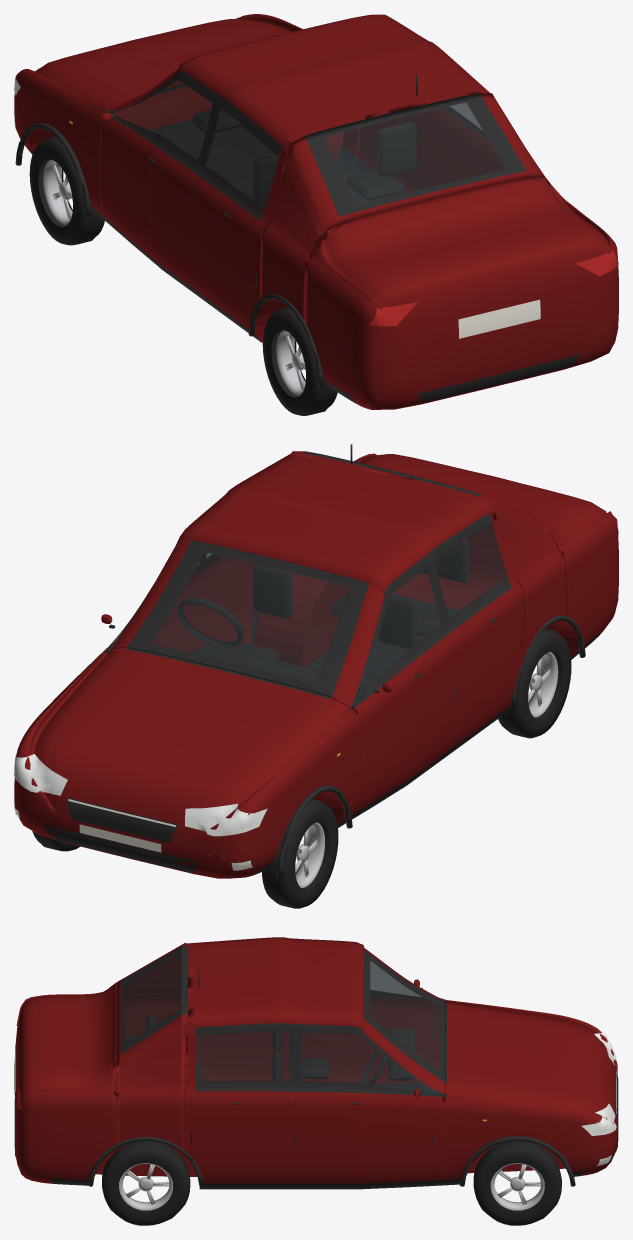
File: hatch_3.glb
The picture shows the model from 3 angles, top to bottom: view 1: azimuth 30°, elevation 25°; view 2: azimuth 150°, elevation 25°; view 3: azimuth 270°, elevation 25°; orthographic projection. The views are drawn at different scales.
Parts seen in each view (by area): view 1: body, wheel_0, wheel_2; view 2: body, wheel_0, wheel_2; view 3: body, wheel_1, wheel_3.
Boxes of the visible parts, bbox=[...] form: body: bbox=[14, 14, 618, 409]; wheel_0: bbox=[29, 136, 104, 245]; wheel_2: bbox=[262, 307, 337, 415]; body: bbox=[14, 444, 618, 878]; wheel_0: bbox=[262, 799, 338, 908]; wheel_2: bbox=[498, 628, 571, 738]; body: bbox=[14, 937, 618, 1189]; wheel_1: bbox=[473, 1140, 561, 1225]; wheel_3: bbox=[102, 1140, 190, 1225].
Size of the model in its own units: 1.78 by 1.61 by 4.02.
